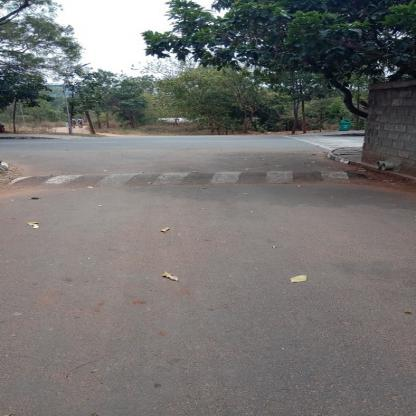speed-bumps: (4, 166, 381, 186)
